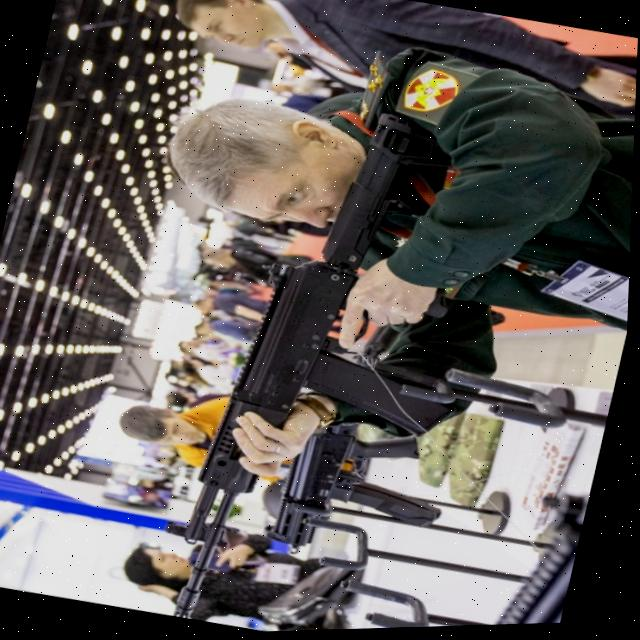firearm: (162, 95, 515, 636), (262, 408, 462, 581), (430, 475, 594, 630)
